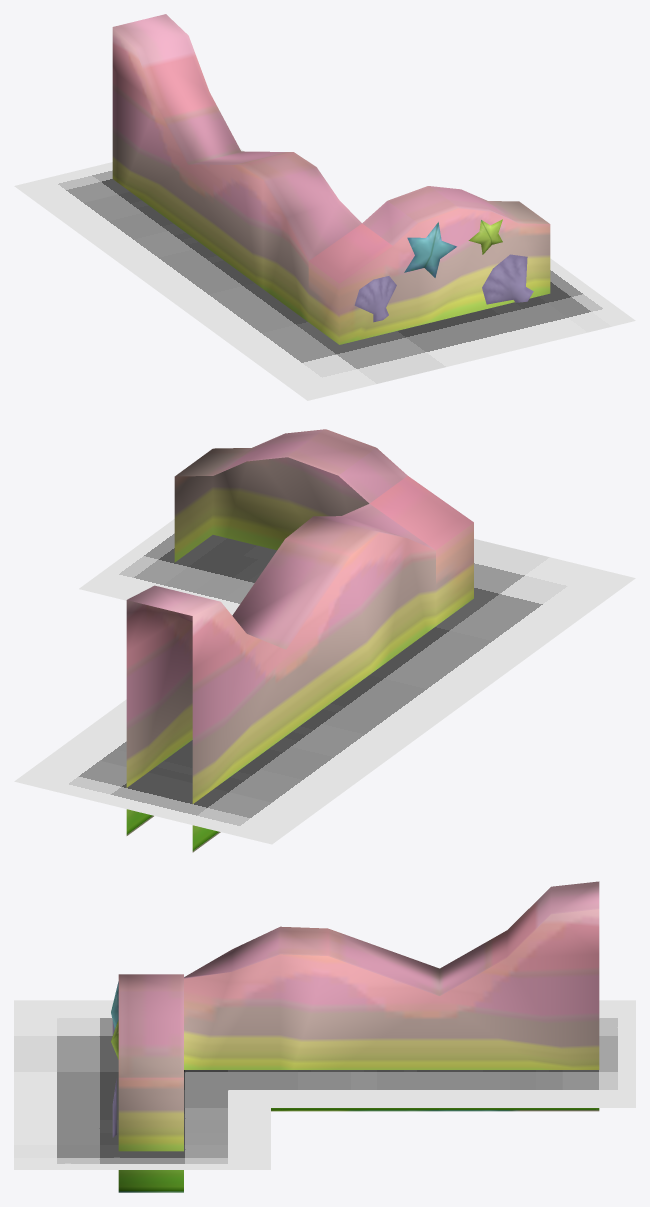
Rendered from int_fence_04.dae.
The picture shows the model from 3 angles, top to bottom: view 1: azimuth 30°, elevation 25°; view 2: azimuth 150°, elevation 25°; view 3: azimuth 270°, elevation 25°; orthographic projection. The views are drawn at different scales.
Visible parts, largest first — view 1: int_fence_04; view 2: int_fence_04; view 3: int_fence_04.
Boxes of the visible parts, x1,y1,x2,y2 form: int_fence_04: [14, 14, 635, 400]; int_fence_04: [14, 429, 635, 852]; int_fence_04: [14, 881, 635, 1192].
Bounding box in the file's own units: 43.91 × 24.39 × 68.
Materials: 2 (2 with a texture image).
